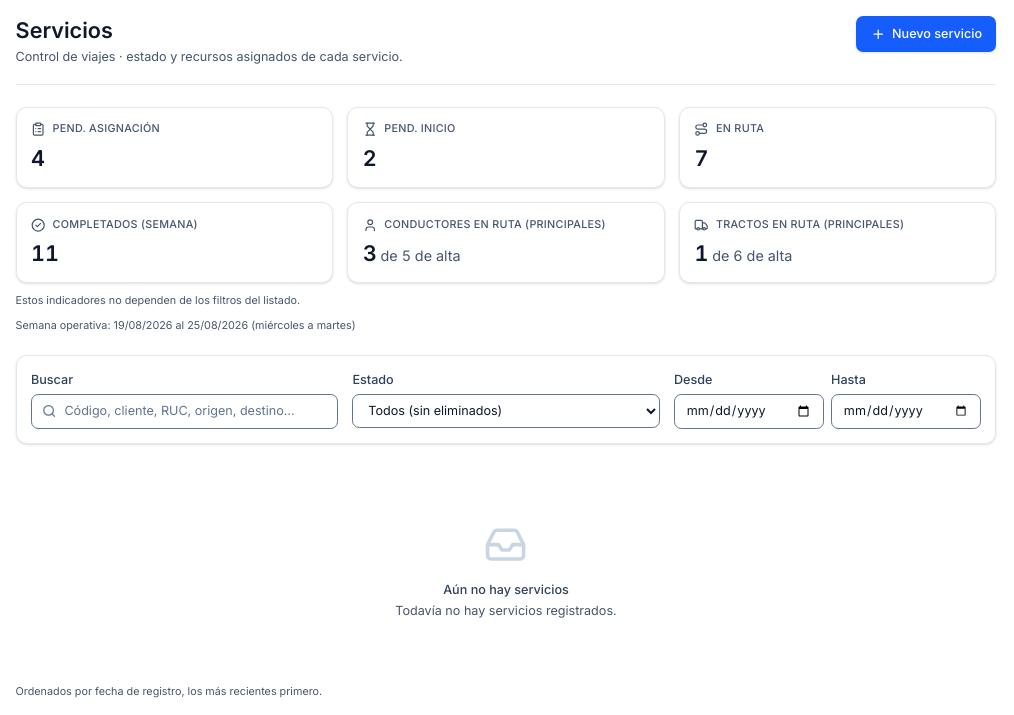
ServicesListPage › muestra el estado vacío de filtros cuando hay filtros activos y cero resultados
This screenshot has width=1014, height=715.
Expected: the text "Todavía no hay servicios registrados." is shown, [395,602,617,620]
Select "En ruta" in the dropdown labelled "Estado" at (506,411), box [352,394,660,428]
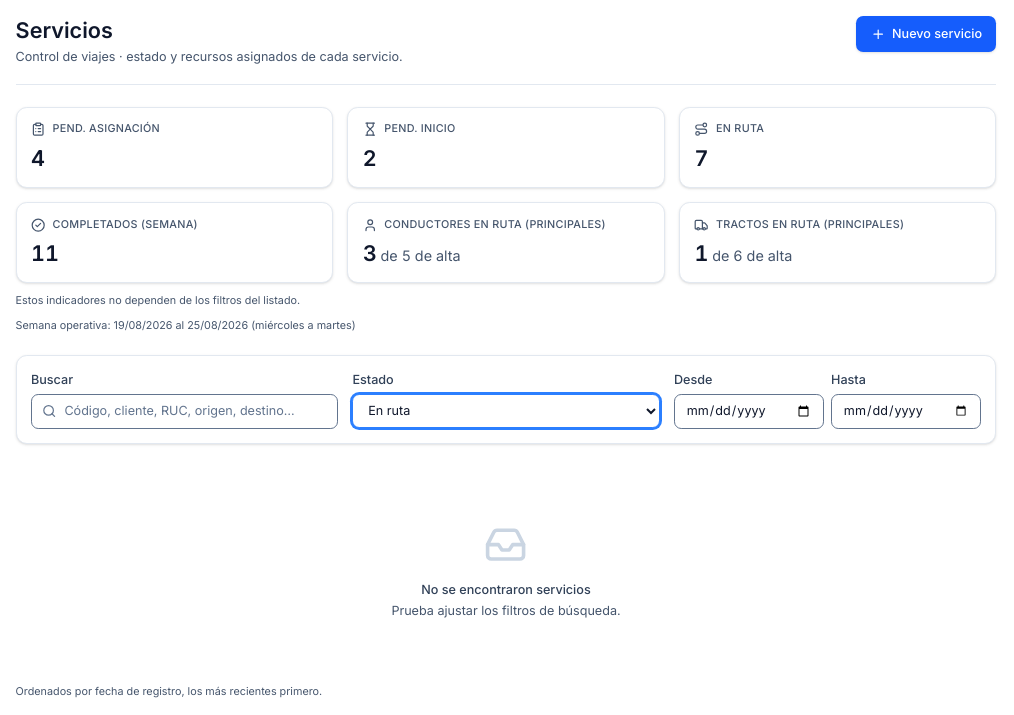
Expected: the text "No se encontraron servicios" is shown, [421,581,591,599]
Expected: the text "Prueba ajustar los filtros de búsqueda." is shown, [391,602,621,620]
